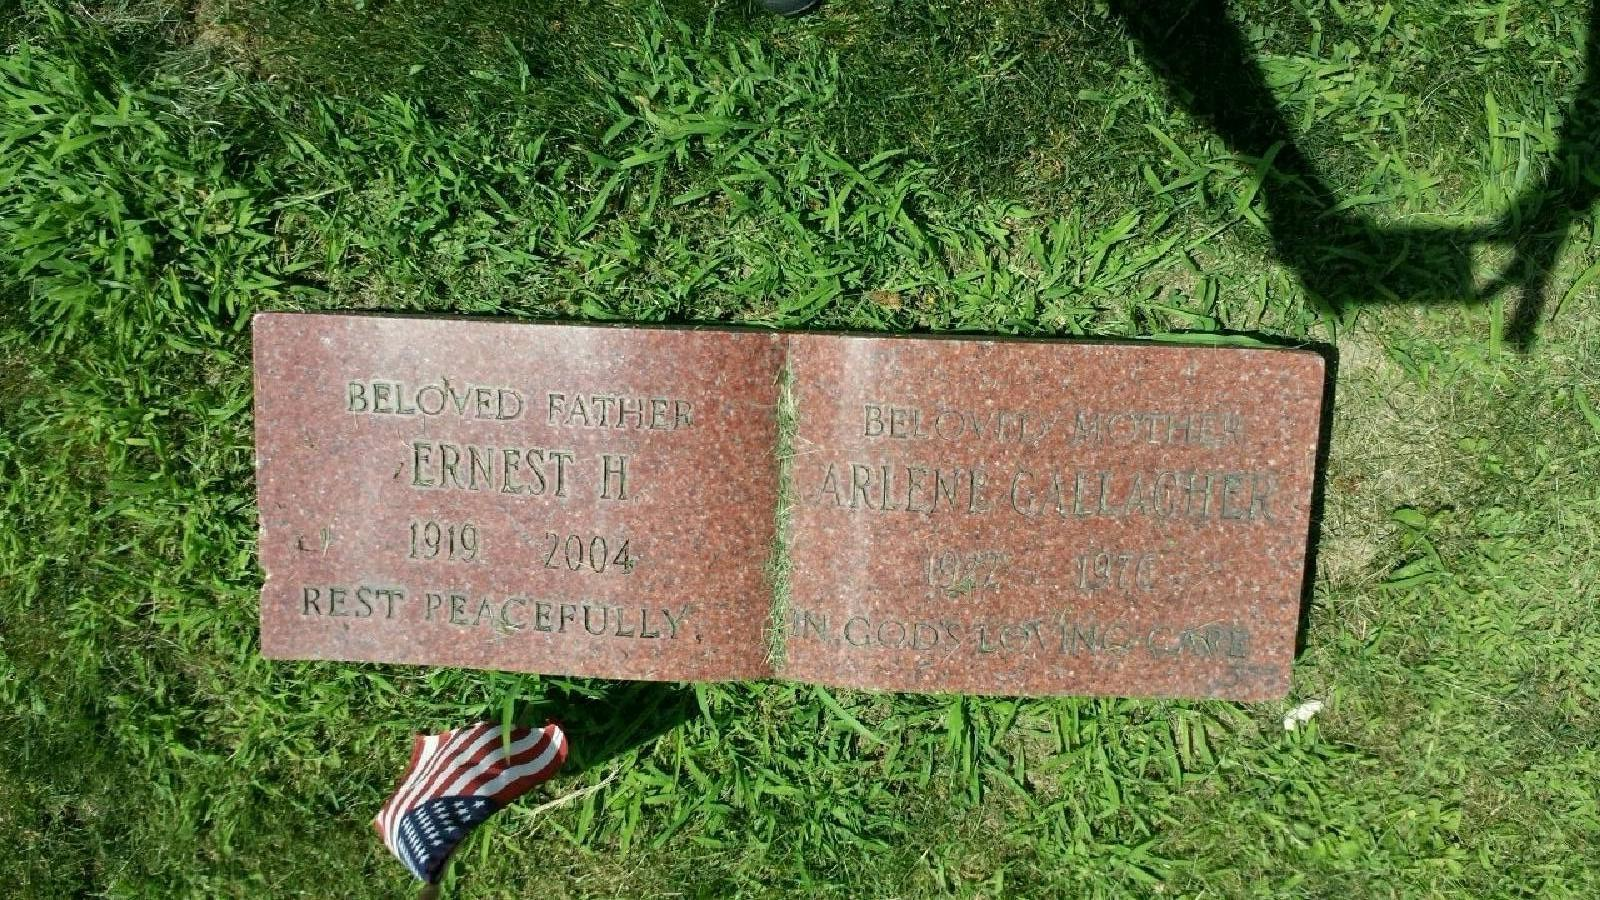flat: (242, 300, 1326, 726)
